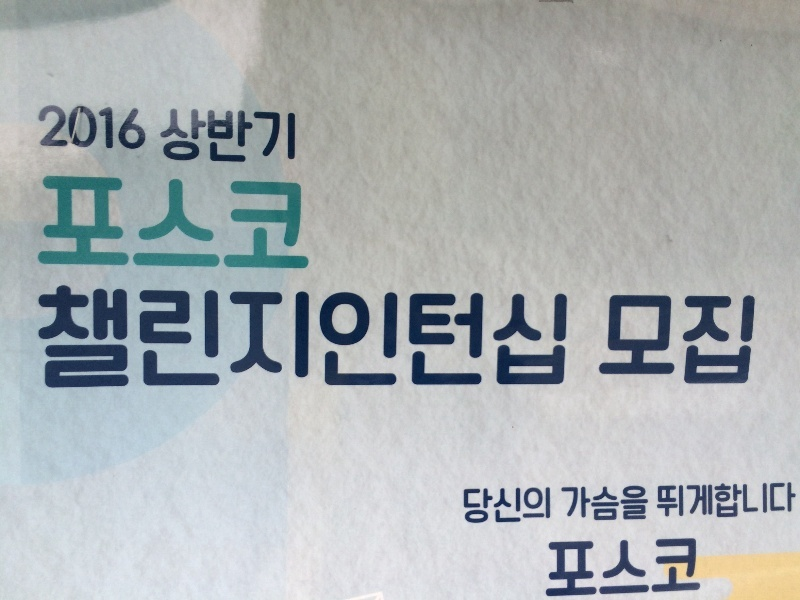text: (49, 285, 64, 394), (65, 285, 80, 394), (81, 285, 96, 394), (97, 285, 112, 394), (113, 285, 128, 394), (129, 285, 144, 394), (145, 285, 160, 394), (161, 285, 176, 394), (177, 285, 192, 394), (193, 285, 208, 394), (209, 285, 224, 394), (225, 285, 240, 394), (241, 285, 256, 394), (257, 285, 272, 394), (273, 285, 288, 394), (289, 285, 304, 394), (305, 285, 320, 394), (321, 285, 336, 394), (337, 285, 352, 394), (353, 285, 368, 394), (369, 285, 384, 394), (385, 285, 400, 394), (401, 285, 416, 394), (417, 285, 432, 394), (433, 285, 448, 394), (449, 285, 464, 394), (465, 285, 480, 394), (481, 285, 496, 394), (497, 285, 512, 394), (513, 285, 528, 394), (529, 285, 544, 394), (545, 285, 560, 394), (49, 173, 64, 271), (65, 173, 80, 271), (81, 173, 96, 271), (97, 173, 112, 271), (113, 173, 128, 271), (129, 173, 144, 271), (145, 173, 160, 271), (161, 173, 176, 271), (177, 173, 192, 271), (193, 173, 208, 271), (209, 173, 224, 271), (225, 173, 240, 271), (241, 173, 256, 271), (257, 173, 272, 271), (273, 173, 288, 271), (289, 173, 304, 271), (609, 294, 624, 387), (625, 294, 640, 387), (641, 294, 656, 387), (657, 294, 672, 387), (673, 294, 688, 387), (689, 294, 704, 387), (705, 294, 720, 387), (721, 294, 736, 387), (737, 294, 752, 387), (37, 285, 48, 394), (561, 285, 570, 394), (561, 537, 576, 599), (577, 537, 592, 599), (593, 537, 608, 599), (609, 537, 624, 599), (625, 537, 640, 599), (641, 537, 656, 599), (657, 537, 672, 599), (673, 537, 688, 599), (161, 107, 176, 166), (177, 107, 192, 166), (193, 107, 208, 166), (209, 107, 224, 166), (225, 107, 240, 166), (241, 107, 256, 166), (257, 107, 272, 166), (273, 107, 288, 166), (689, 537, 701, 599), (49, 102, 64, 151), (65, 102, 80, 151), (81, 102, 96, 151), (97, 102, 112, 151), (113, 102, 128, 151), (129, 102, 144, 151), (549, 537, 560, 599), (42, 173, 48, 271), (305, 173, 311, 271), (465, 488, 480, 527), (481, 488, 496, 527), (497, 488, 512, 527), (513, 488, 528, 527), (529, 488, 544, 527), (657, 481, 672, 520), (673, 481, 688, 520), (689, 481, 704, 520), (705, 481, 720, 520), (721, 481, 736, 520), (737, 481, 752, 520), (753, 481, 768, 520), (769, 481, 784, 520), (561, 485, 576, 523), (577, 485, 592, 523), (593, 485, 608, 523), (609, 485, 624, 523), (625, 485, 640, 523), (289, 107, 297, 166), (785, 481, 797, 520), (40, 102, 48, 151), (753, 294, 757, 387), (641, 485, 649, 523), (545, 488, 551, 527), (606, 294, 608, 387), (145, 102, 148, 151), (159, 107, 160, 166), (463, 488, 464, 527)
